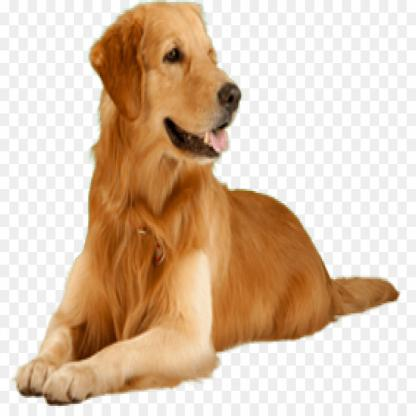DOG: (13, 3, 403, 411)
